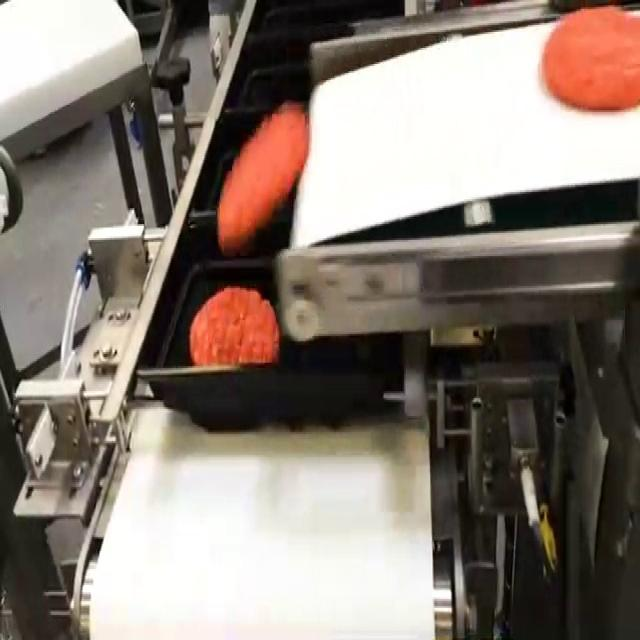hamburguer: (217, 103, 308, 252), (542, 7, 639, 108)
